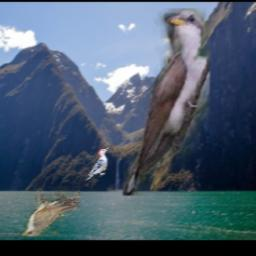Cuckoo: (124, 9, 211, 196), (21, 186, 81, 236)
Woodpecker: (86, 146, 112, 182)
